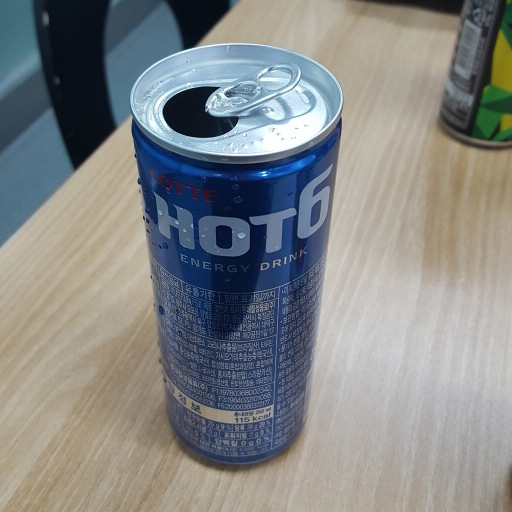Metal_0: (126, 40, 342, 470)
